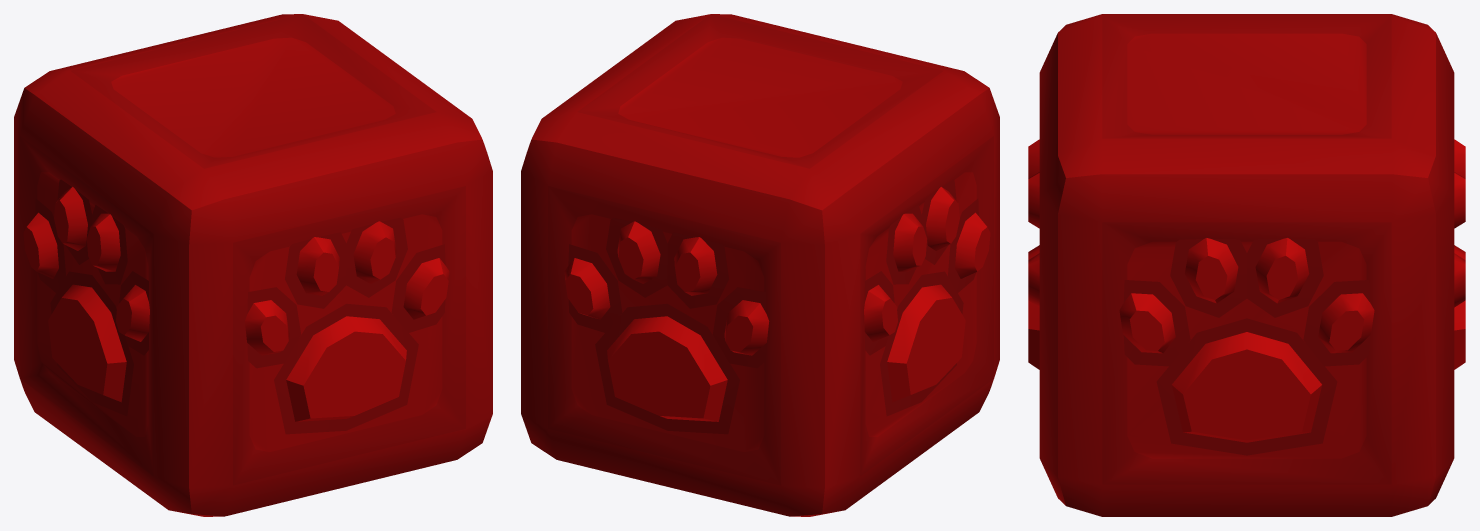
The model's file is kup5_1.glb.
3 views of the same model, side by side, from view 1: azimuth 30°, elevation 25°; view 2: azimuth 150°, elevation 25°; view 3: azimuth 270°, elevation 25° (orthographic). The views are drawn at different scales.
Parts seen in each view (by area): view 1: kup5_1; view 2: kup5_1; view 3: kup5_1.
Boxes of the visible parts, bbox=[...] form: kup5_1: bbox=[14, 14, 492, 516]; kup5_1: bbox=[521, 14, 999, 516]; kup5_1: bbox=[1028, 14, 1465, 516].
Size of the model in its own units: 1.62 by 1.54 by 1.62.
